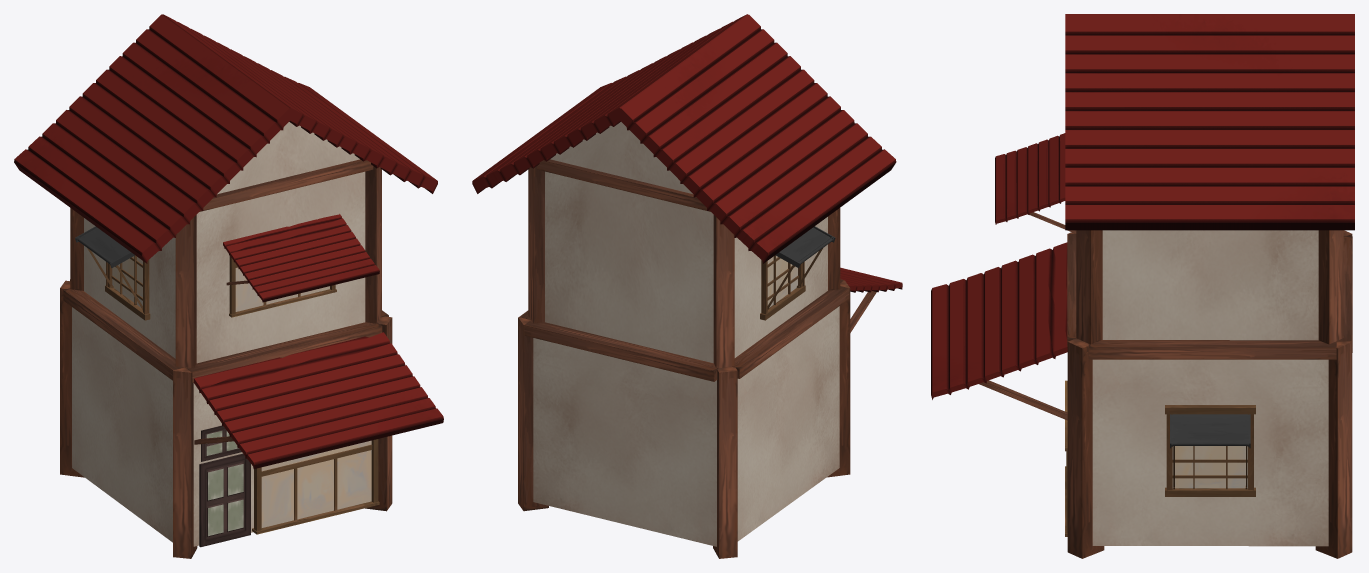
The model's file is Nha 15.fbx.
The picture shows the model from 3 angles, left to right: view 1: azimuth 30°, elevation 25°; view 2: azimuth 150°, elevation 25°; view 3: azimuth 270°, elevation 25°; orthographic projection. The views are drawn at different scales.
Parts seen in each view (by area): view 1: Plane.008; view 2: Plane.008; view 3: Plane.008.
Boxes of the visible parts, x1,y1,x2,y2 form: Plane.008: (14,14,443,558); Plane.008: (472,14,902,558); Plane.008: (931,14,1354,558).
Bounding box in the file's own units: 1185 × 1637 × 1299.
